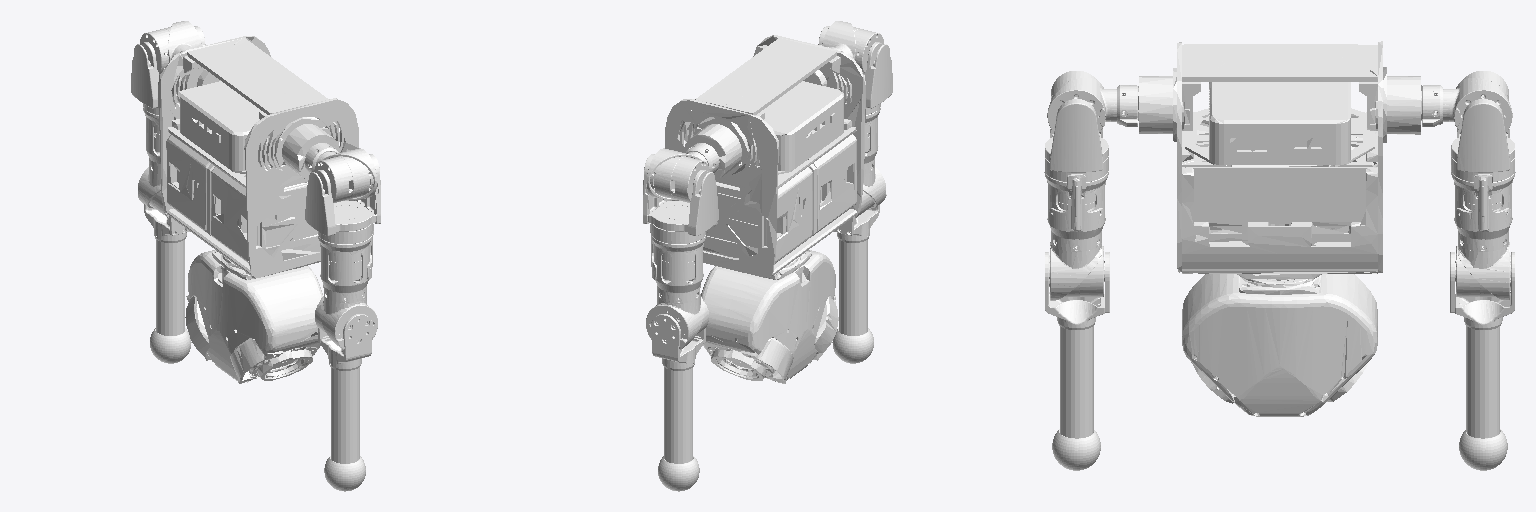
URDF robot description (biped_v3_arm):
<?xml version="1.0" ?>
<!-- =================================================================================== -->
<!-- |    This document was autogenerated by xacro from [local-path]/workspace/kuavo-ros-control/src/humanoid-control/humanoid_interface_drake/models/biped_gen4.0/urdf/biped_v3_arm.xacro | -->
<!-- |    EDITING THIS FILE BY HAND IS NOT RECOMMENDED                                 | -->
<!-- =================================================================================== -->
<robot name="biped_v3_arm" xmlns:drake="https://drake.mit.edu">
  <link name="torso">
    <inertial>
      <origin xyz="-0.00125701 -0.00011621 0.07634255" rpy="0 0 0" />
      <mass value="6.49935692" />
      <inertia ixx="0.04387174" ixy="-1.165e-05" ixz="-2.045e-05" iyy="0.02873935" iyz="-0.00014024" izz="0.03498757" />
    </inertial>
    <visual>
      <origin xyz="0 0 0" rpy="0 0 0" />
      <geometry>
        <mesh filename="../../meshes/torso.STL" />
      </geometry>
      <material name="">
        <color rgba="1 1 1 1" />
      </material>
    </visual>
  </link>
  <link name="waist">
    <inertial>
      <origin xyz="0.00044512 0.00021941 -0.09828156" rpy="0 0 0" />
      <mass value="3.54871761" />
      <inertia ixx="0.01402915" ixy="5.86e-06" ixz="9.26e-06" iyy="0.00850232" iyz="7.03e-06" izz="0.0108444" />
    </inertial>
    <visual>
      <origin xyz="0 0 0" rpy="0 0 0" />
      <geometry>
        <mesh filename="../../meshes/waist.STL" />
      </geometry>
      <material name="">
        <color rgba="1 1 1 1" />
      </material>
    </visual>
  </link>
  <joint name="waist" type="fixed">
    <origin xyz="0 0 0" rpy="0 0 0" />
    <parent link="torso" />
    <child link="waist" />
    <axis xyz="0 0 1" />
    <limit lower="-2.0943951023932" upper="2.0943951023932" effort="50" velocity="8.37333333333333" />
  </joint>
  <!-- =========================================================== Arms ================================================================= -->
  <link name="zarm_l1_link">
    <inertial>
      <origin xyz="0.0039 -0.00971 3e-05" rpy="0 0 0" />
      <mass value="0.2" />
      <inertia ixx="0.00014" ixy="-1e-05" ixz="0.0" iyy="9e-05" iyz="0.0" izz="0.00015" />
    </inertial>
    <visual>
      <origin xyz="0 0 0" rpy="0 0 0" />
      <geometry>
        <mesh filename="../../meshes/l_arm_pitch.STL" />
      </geometry>
      <material name="">
        <color rgba="1 1 1 1" />
      </material>
    </visual>
  </link>
  <joint name="zarm_l1_joint" type="revolute">
    <origin xyz="0.0 0.2085 0.16" rpy="0 0 0" />
    <parent link="torso" />
    <child link="zarm_l1_link" />
    <axis xyz="0 1 0" />
    <limit lower="-3.14159265358979" upper="2.0943951023932" effort="12" velocity="7.32666666666667" />
  </joint>
  <transmission type="SimpleTransmission">
    <joint name="zarm_l1_joint" />
    <actuator name="zarm_l1_joint_motor" />
  </transmission>
  <link name="zarm_l2_link">
    <inertial>
      <origin xyz="0.00166 0.0 -0.03622" rpy="0 0 0" />
      <mass value="0.16" />
      <inertia ixx="0.00012" ixy="0.0" ixz="-2e-05" iyy="0.00022" iyz="0.0" izz="0.00017" />
    </inertial>
    <visual>
      <origin xyz="0 0 0" rpy="0 0 0" />
      <geometry>
        <mesh filename="../../meshes/l_arm_roll.STL" />
      </geometry>
      <material name="">
        <color rgba="1 1 1 1" />
      </material>
    </visual>
  </link>
  <joint name="zarm_l2_joint" type="revolute">
    <origin xyz="0 0 0" rpy="0 0 0" />
    <parent link="zarm_l1_link" />
    <child link="zarm_l2_link" />
    <axis xyz="1 0 0" />
    <limit lower="-0.349065850398866" upper="3.49065850398866" effort="12" velocity="7.32666666666667" />
  </joint>
  <transmission type="SimpleTransmission">
    <joint name="zarm_l2_joint" />
    <actuator name="zarm_l2_joint_motor" />
  </transmission>
  <link name="zarm_l3_link">
    <inertial>
      <origin xyz="0.00056 0.00162 -0.13553" rpy="0 0 0" />
      <mass value="0.688" />
      <inertia ixx="0.00173" ixy="0.0" ixz="-2e-05" iyy="0.00173" iyz="6e-05" izz="0.00035" />
    </inertial>
    <visual>
      <origin xyz="0 0 0" rpy="0 0 0" />
      <geometry>
        <mesh filename="../../meshes/l_arm_yaw.STL" />
      </geometry>
      <material name="">
        <color rgba="1 1 1 1" />
      </material>
    </visual>
  </link>
  <joint name="zarm_l3_joint" type="revolute">
    <origin xyz="0 0 0" rpy="0 0 0" />
    <parent link="zarm_l2_link" />
    <child link="zarm_l3_link" />
    <axis xyz="0 0 1" />
    <limit lower="-1.5707963267949" upper="1.5707963267949" effort="12" velocity="7.32666666666667" />
  </joint>
  <transmission type="SimpleTransmission">
    <joint name="zarm_l3_joint" />
    <actuator name="zarm_l3_joint_motor" />
  </transmission>
  <link name="zarm_l4_link">
    <inertial>
      <origin xyz="-0.00012 0.00037 -0.12664" rpy="0 0 0" />
      <mass value="0.175" />
      <inertia ixx="0.00105" ixy="0.0" ixz="0.0" iyy="0.00102" iyz="-1e-05" izz="8e-05" />
    </inertial>
    <visual>
      <origin xyz="0 0 0" rpy="0 0 0" />
      <geometry>
        <mesh filename="../../meshes/l_forearm.STL" />
      </geometry>
      <material name="">
        <color rgba="1 1 1 1" />
      </material>
    </visual>
  </link>
  <joint name="zarm_l4_joint" type="revolute">
    <origin xyz="0 0 -0.188" rpy="0 0 0" />
    <parent link="zarm_l3_link" />
    <child link="zarm_l4_link" />
    <axis xyz="0 1 0" />
    <limit lower="-2.26892802759263" upper="0.0" effort="12" velocity="7.32666666666667" />
  </joint>
  <transmission type="SimpleTransmission">
    <joint name="zarm_l4_joint" />
    <actuator name="zarm_l4_joint_motor" />
  </transmission>
  <!-- right arm -->
  <link name="zarm_r1_link">
    <inertial>
      <origin xyz="0.0039 0.00971 3e-05" rpy="0 0 0" />
      <mass value="0.2" />
      <inertia ixx="0.00014" ixy="1e-05" ixz="0.0" iyy="9e-05" iyz="0.0" izz="0.00015" />
    </inertial>
    <visual>
      <origin xyz="0 0 0" rpy="0 0 0" />
      <geometry>
        <mesh filename="../../meshes/r_arm_pitch.STL" />
      </geometry>
      <material name="">
        <color rgba="1 1 1 1" />
      </material>
    </visual>
  </link>
  <joint name="zarm_r1_joint" type="revolute">
    <origin xyz="0.0 -0.2085 0.16" rpy="0 0 0" />
    <parent link="torso" />
    <child link="zarm_r1_link" />
    <axis xyz="0 1 0" />
    <limit lower="-3.14159265358979" upper="2.0943951023932" effort="12" velocity="7.32666666666667" />
  </joint>
  <transmission type="SimpleTransmission">
    <joint name="zarm_r1_joint" />
    <actuator name="zarm_r1_joint_motor" />
  </transmission>
  <link name="zarm_r2_link">
    <inertial>
      <origin xyz="0.00166 0.0 -0.03622" rpy="0 0 0" />
      <mass value="0.16" />
      <inertia ixx="0.00012" ixy="0.0" ixz="-2e-05" iyy="0.00022" iyz="0.0" izz="0.00017" />
    </inertial>
    <visual>
      <origin xyz="0 0 0" rpy="0 0 0" />
      <geometry>
        <mesh filename="../../meshes/r_arm_roll.STL" />
      </geometry>
      <material name="">
        <color rgba="1 1 1 1" />
      </material>
    </visual>
  </link>
  <joint name="zarm_r2_joint" type="revolute">
    <origin xyz="0 0 0" rpy="0 0 0" />
    <parent link="zarm_r1_link" />
    <child link="zarm_r2_link" />
    <axis xyz="1 0 0" />
    <limit lower="-3.49065850398866" upper="0.349065850398866" effort="12" velocity="7.32666666666667" />
  </joint>
  <transmission type="SimpleTransmission">
    <joint name="zarm_r2_joint" />
    <actuator name="zarm_r2_joint_motor" />
  </transmission>
  <link name="zarm_r3_link">
    <inertial>
      <origin xyz="0.00056 -0.00162 -0.13553" rpy="0 0 0" />
      <mass value="0.688" />
      <inertia ixx="0.00175" ixy="0.0" ixz="-2e-05" iyy="0.00175" iyz="-6e-05" izz="0.00035" />
    </inertial>
    <visual>
      <origin xyz="0 0 0" rpy="0 0 0" />
      <geometry>
        <mesh filename="../../meshes/r_arm_yaw.STL" />
      </geometry>
      <material name="">
        <color rgba="1 1 1 1" />
      </material>
    </visual>
  </link>
  <joint name="zarm_r3_joint" type="revolute">
    <origin xyz="0 0 0" rpy="0 0 0" />
    <parent link="zarm_r2_link" />
    <child link="zarm_r3_link" />
    <axis xyz="0 0 1" />
    <limit lower="-1.5707963267949" upper="1.5707963267949" effort="12" velocity="7.32666666666667" />
  </joint>
  <transmission type="SimpleTransmission">
    <joint name="zarm_r3_joint" />
    <actuator name="zarm_r3_joint_motor" />
  </transmission>
  <link name="zarm_r4_link">
    <inertial>
      <origin xyz="-0.00012 -0.00037 -0.12664" rpy="0 0 0" />
      <mass value="0.175" />
      <inertia ixx="0.00105" ixy="0.0" ixz="0.0" iyy="0.00102" iyz="1e-05" izz="8e-05" />
    </inertial>
    <visual>
      <origin xyz="0 0 0" rpy="0 0 0" />
      <geometry>
        <mesh filename="../../meshes/r_forearm.STL" />
      </geometry>
      <material name="">
        <color rgba="1 1 1 1" />
      </material>
    </visual>
  </link>
  <joint name="zarm_r4_joint" type="revolute">
    <origin xyz="0 0 -0.188" rpy="0 0 0" />
    <parent link="zarm_r3_link" />
    <child link="zarm_r4_link" />
    <axis xyz="0 1 0" />
    <limit lower="-2.26892802759263" upper="0.0" effort="12" velocity="7.32666666666667" />
  </joint>
  <transmission type="SimpleTransmission">
    <joint name="zarm_r4_joint" />
    <actuator name="zarm_r4_joint_motor" />
  </transmission>
  <!-- end frame -->
  <!-- <frame link="l_hand_pitch" name="l_hand_sole" xyz="0 0 -0.1" /> -->
  <!-- end frame -->
  <!-- <frame link="r_hand_pitch" name="r_hand_sole" xyz="0 0 -0.1" /> -->
</robot>

--- Facts derived from the render (not from the file) ---
3 views of the same robot in one strip: view 1: azimuth 30°, elevation 25°; view 2: azimuth 150°, elevation 25°; view 3: azimuth 270°, elevation 25° (orthographic).
Model biped_v3_arm with 10 links and 9 joints (8 revolute, 1 fixed), rooted at torso, posed every joint at zero.
Links seen in each view (by area): view 1: torso, waist, zarm_r4_link, zarm_r3_link, zarm_l4_link, zarm_r2_link, zarm_r1_link, zarm_l3_link, zarm_l2_link, zarm_l1_link; view 2: torso, waist, zarm_l4_link, zarm_l3_link, zarm_r4_link, zarm_l2_link, zarm_l1_link, zarm_r3_link, zarm_r2_link, zarm_r1_link; view 3: torso, waist, zarm_l4_link, zarm_r4_link, zarm_l3_link, zarm_r3_link, zarm_l2_link, zarm_r2_link, zarm_l1_link, zarm_r1_link.
Link boxes in pixels (x1=…): torso: x1=158, y1=36, x2=358, y2=277; waist: x1=185, y1=250, x2=322, y2=383; zarm_r4_link: x1=318, y1=314, x2=372, y2=491; zarm_r3_link: x1=315, y1=223, x2=377, y2=349; zarm_l4_link: x1=144, y1=204, x2=191, y2=363; zarm_r2_link: x1=305, y1=154, x2=380, y2=235; zarm_r1_link: x1=305, y1=143, x2=376, y2=202; zarm_l3_link: x1=138, y1=104, x2=168, y2=217; zarm_l2_link: x1=131, y1=26, x2=205, y2=108; zarm_l1_link: x1=140, y1=21, x2=204, y2=74; torso: x1=665, y1=35, x2=865, y2=277; waist: x1=701, y1=250, x2=838, y2=383; zarm_l4_link: x1=651, y1=314, x2=705, y2=491; zarm_l3_link: x1=646, y1=223, x2=708, y2=349; zarm_r4_link: x1=832, y1=205, x2=879, y2=363; zarm_l2_link: x1=643, y1=154, x2=718, y2=235; zarm_l1_link: x1=647, y1=143, x2=719, y2=202; zarm_r3_link: x1=845, y1=103, x2=886, y2=217; zarm_r2_link: x1=818, y1=26, x2=892, y2=108; zarm_r1_link: x1=819, y1=21, x2=883, y2=74; torso: x1=1138, y1=41, x2=1421, y2=279; waist: x1=1182, y1=274, x2=1377, y2=416; zarm_l4_link: x1=1450, y1=252, x2=1514, y2=470; zarm_r4_link: x1=1045, y1=252, x2=1109, y2=470; zarm_l3_link: x1=1451, y1=156, x2=1515, y2=300; zarm_r3_link: x1=1044, y1=156, x2=1108, y2=300; zarm_l2_link: x1=1451, y1=99, x2=1514, y2=172; zarm_r2_link: x1=1045, y1=99, x2=1108, y2=172; zarm_l1_link: x1=1422, y1=71, x2=1512, y2=132; zarm_r1_link: x1=1047, y1=71, x2=1137, y2=132.
Size in the robot's own frame: 0.1571 by 0.4829 by 0.461 metres.
Meshes: 10 distinct files referenced, 10 mesh visuals loaded (10 binary STL).